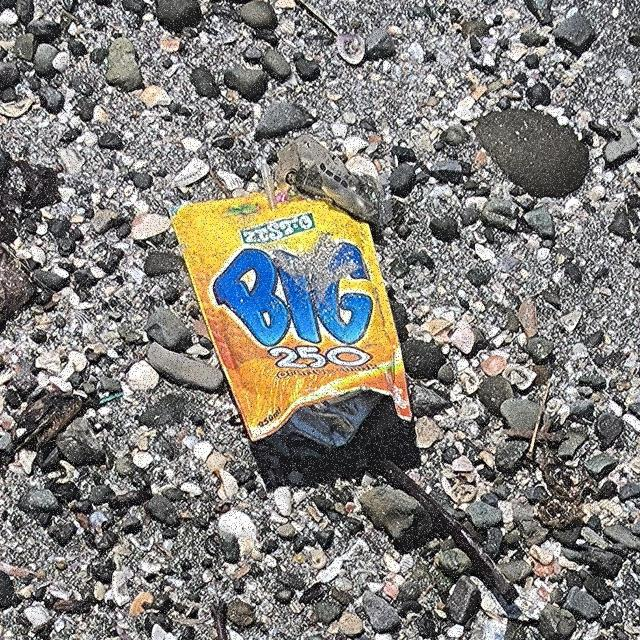plastic_waste: (166, 189, 420, 463)
